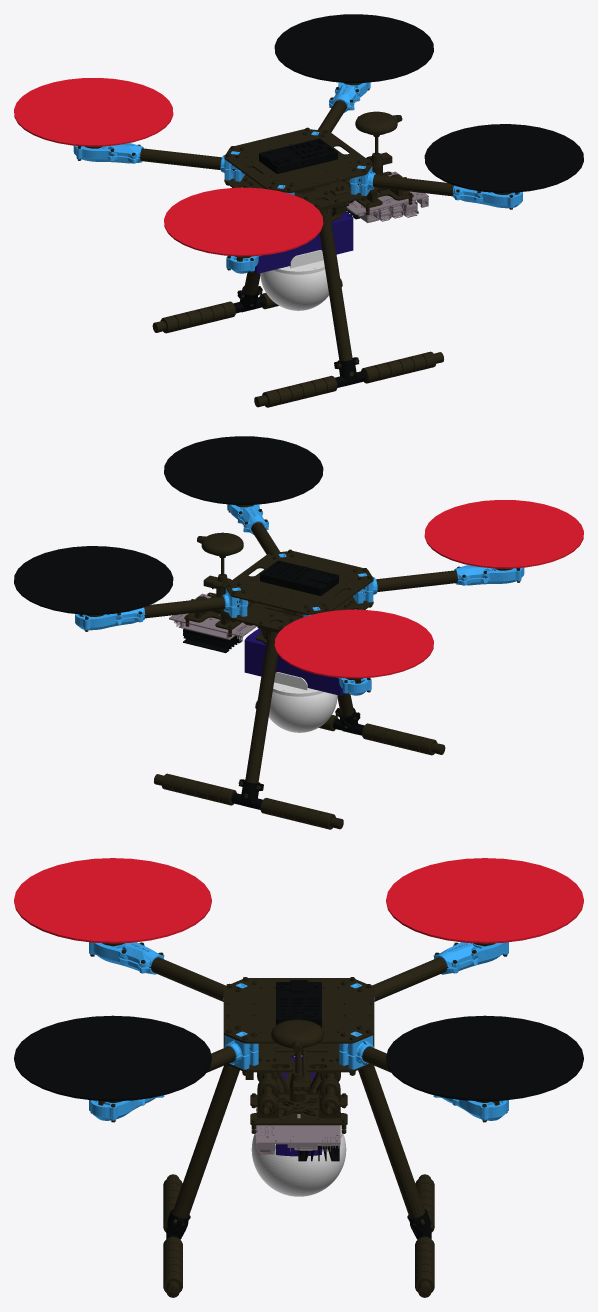
Rendered from vincent_DAE.dae.
3 renders of one model, top to bottom at view 1: azimuth 30°, elevation 25°; view 2: azimuth 150°, elevation 25°; view 3: azimuth 270°, elevation 25°, orthographic. The views are drawn at different scales.
Parts seen in each view (by area): view 1: PROPSFRONT, PROPSBACK, Dorchester3D.com_x500v2-frame, Dome v4, pixhawk, Tattu_4S_6750mAh_25C, Jetsonnano, imagetostl_mesh, Dorchester3D.com_x500v2-frame.012, Dorchester3D.com_x500v2-frame.010, Dorchester3D.com_x500v2-frame.011, Dorchester3D.com_x500v2-frame.008 (+2 smaller); view 2: PROPSFRONT, PROPSBACK, Dorchester3D.com_x500v2-frame, Dome v4, Jetsonnano, pixhawk, Tattu_4S_6750mAh_25C, imagetostl_mesh, Dorchester3D.com_x500v2-frame.012, Dorchester3D.com_x500v2-frame.007, Dorchester3D.com_x500v2-frame.011, Dorchester3D.com_x500v2-frame.009 (+2 smaller); view 3: PROPSFRONT, PROPSBACK, Dorchester3D.com_x500v2-frame, Dome v4, Jetsonnano, imagetostl_mesh, pixhawk, Dorchester3D.com_x500v2-frame.011, Dorchester3D.com_x500v2-frame.010, Dorchester3D.com_x500v2-frame.007, Dorchester3D.com_x500v2-frame.012, Dorchester3D.com_x500v2-frame.009 (+2 smaller).
Part boxes in pixels (x1,y1,x2,y2): PROPSFRONT: (14,78,323,256); PROPSBACK: (274,14,583,192); Dorchester3D.com_x500v2-frame: (77,82,518,407); Dome v4: (260,268,328,310); pixhawk: (259,138,337,173); Tattu_4S_6750mAh_25C: (253,212,353,273); Jetsonnano: (346,171,428,222); imagetostl_mesh: (355,111,402,175); Dorchester3D.com_x500v2-frame.012: (233,286,366,387); Dorchester3D.com_x500v2-frame.010: (73,143,143,163); Dorchester3D.com_x500v2-frame.011: (220,131,375,195); Dorchester3D.com_x500v2-frame.008: (452,185,522,208); PROPSFRONT: (274,500,583,678); PROPSBACK: (14,436,323,614); Dorchester3D.com_x500v2-frame: (79,504,520,829); Dome v4: (268,690,337,732); Jetsonnano: (169,593,256,653); pixhawk: (260,560,338,595); Tattu_4S_6750mAh_25C: (244,628,343,695); imagetostl_mesh: (197,532,243,597); Dorchester3D.com_x500v2-frame.012: (231,708,364,809); Dorchester3D.com_x500v2-frame.007: (454,565,524,585); Dorchester3D.com_x500v2-frame.011: (222,553,377,617); Dorchester3D.com_x500v2-frame.009: (75,607,145,630); PROPSFRONT: (14,858,583,943); PROPSBACK: (14,1015,583,1101); Dorchester3D.com_x500v2-frame: (90,942,507,1297); Dome v4: (251,1134,346,1196); Jetsonnano: (255,1107,340,1161); imagetostl_mesh: (271,1019,323,1109); pixhawk: (276,980,321,1027); Dorchester3D.com_x500v2-frame.011: (223,983,374,1069); Dorchester3D.com_x500v2-frame.010: (433,942,508,974); Dorchester3D.com_x500v2-frame.007: (89,942,164,974); Dorchester3D.com_x500v2-frame.012: (166,1209,431,1239); Dorchester3D.com_x500v2-frame.009: (433,1095,508,1120).
Size of the model in its own units: 544 by 543 by 280.
